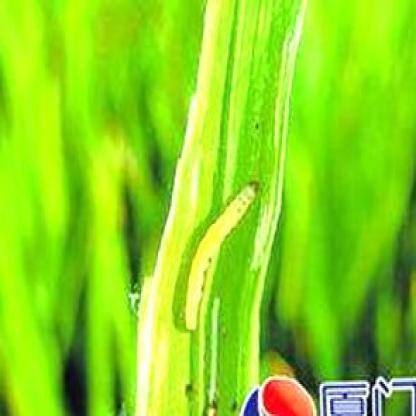leaf-folder: (166, 159, 263, 328)
